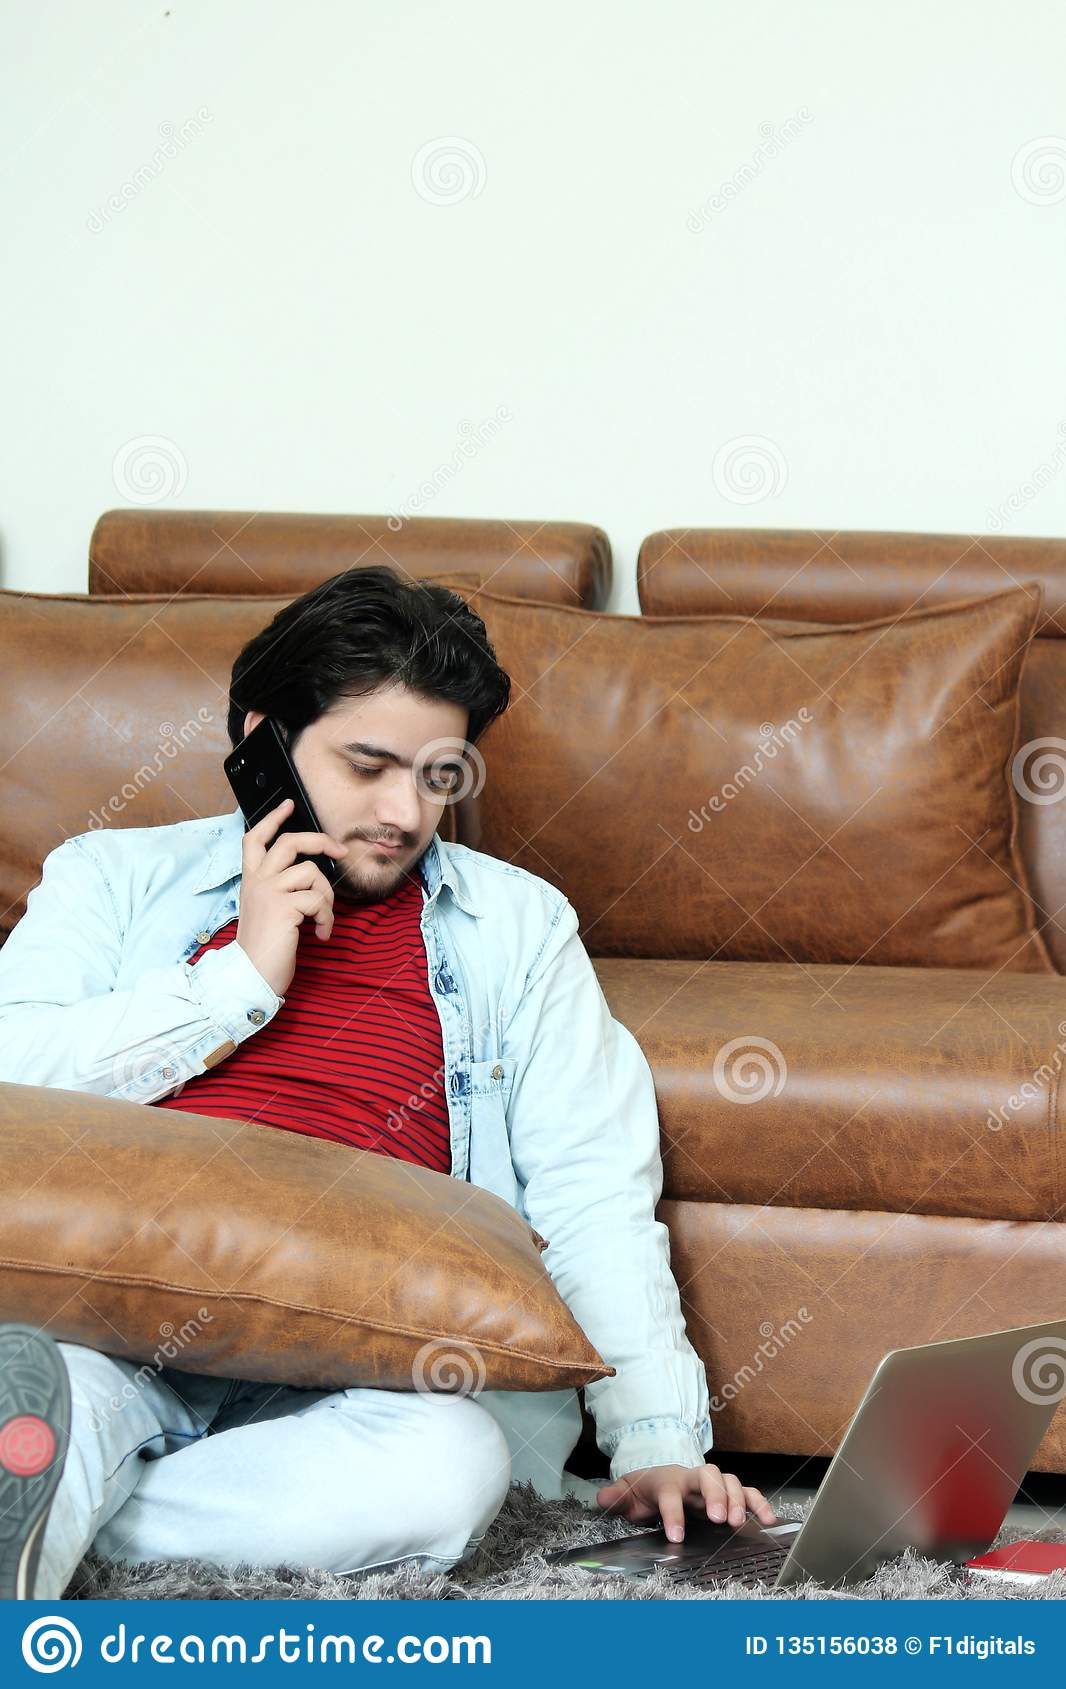phone: (225, 725, 348, 917)
talk: (224, 709, 461, 989)
